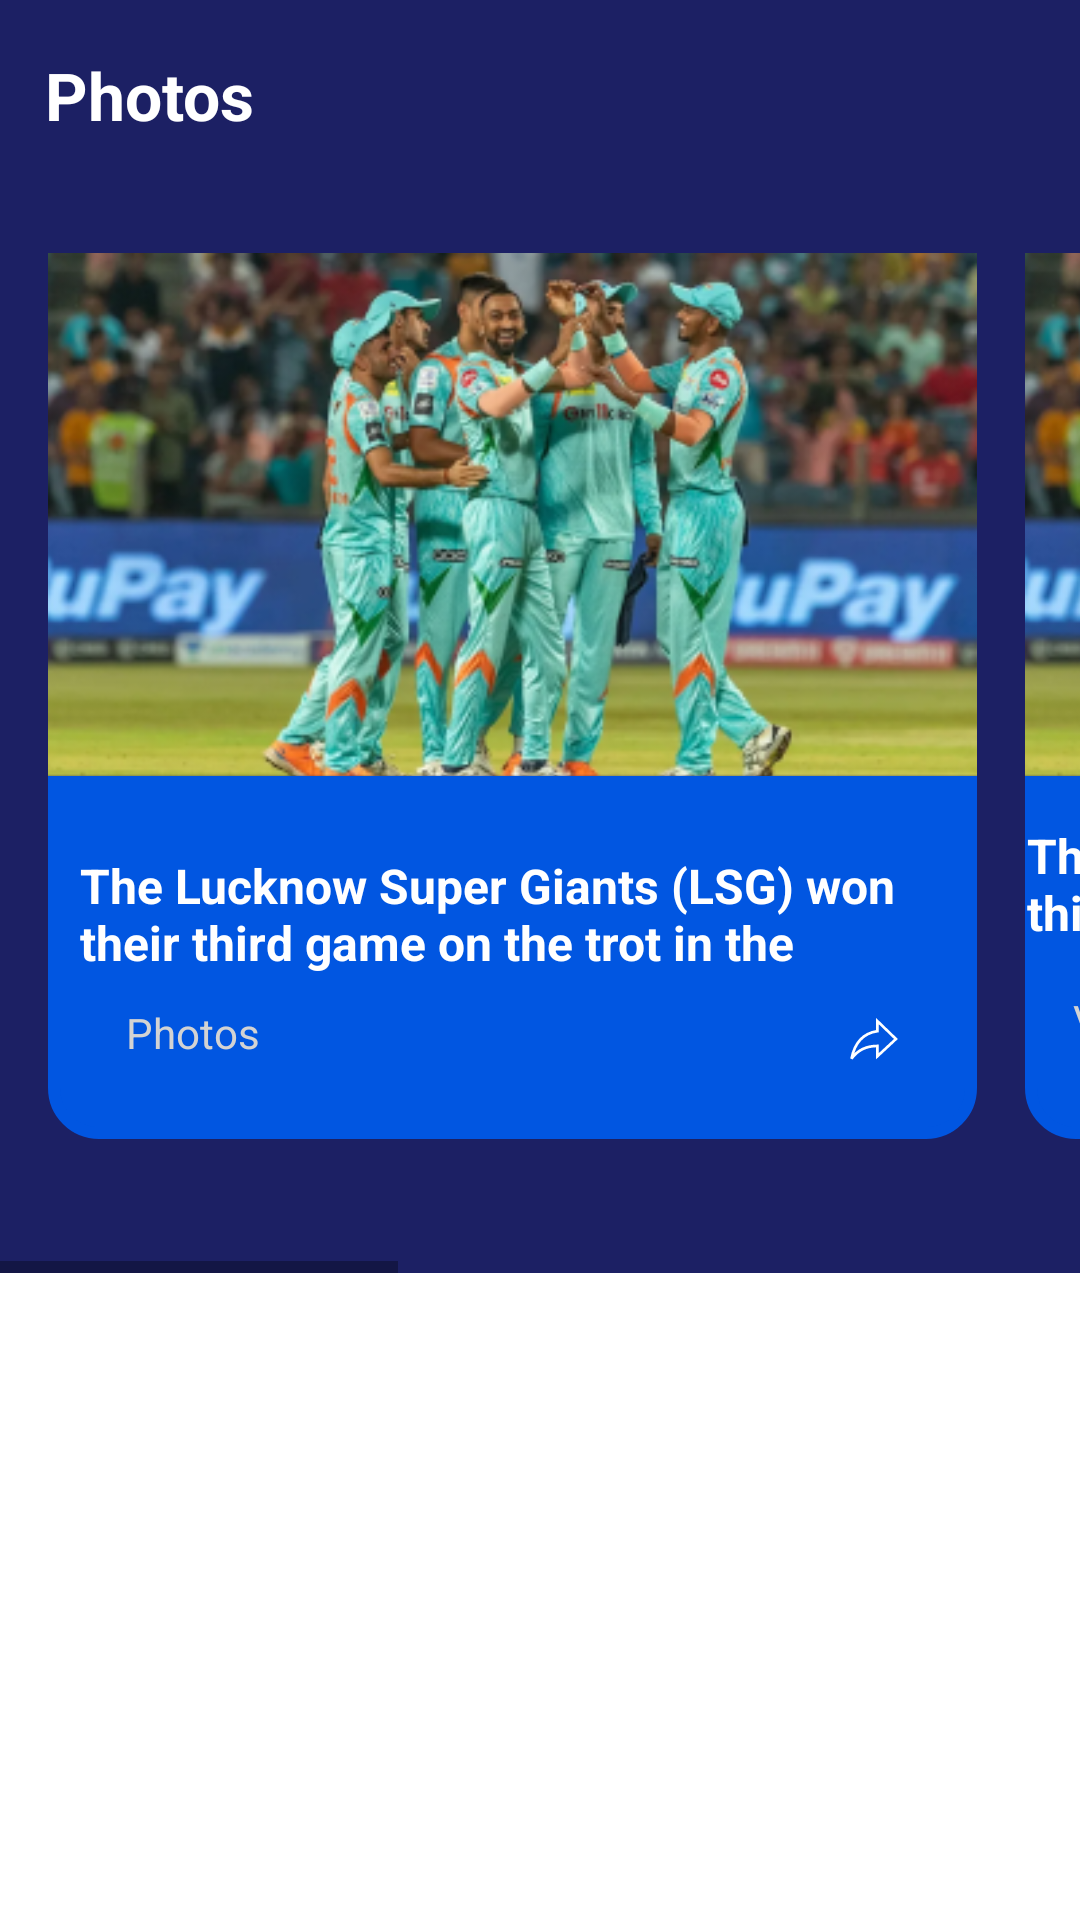

Named icons in this screenshot (1080px x 1920px) and their centers, point (x, y):
arrow: point (874, 1039)
